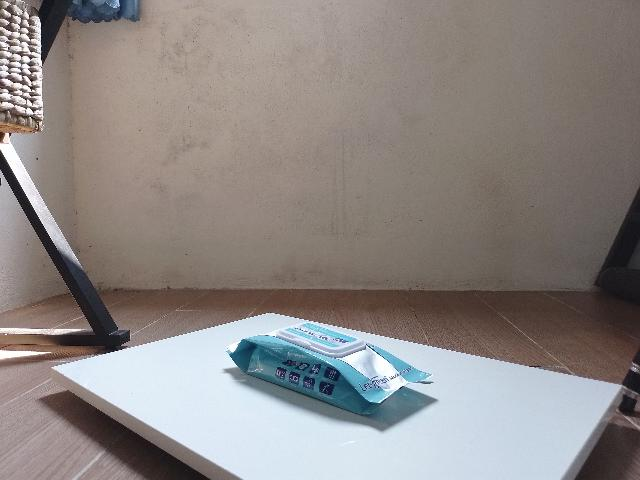Let-green_alcohol_wipes: (225, 322, 439, 414)
